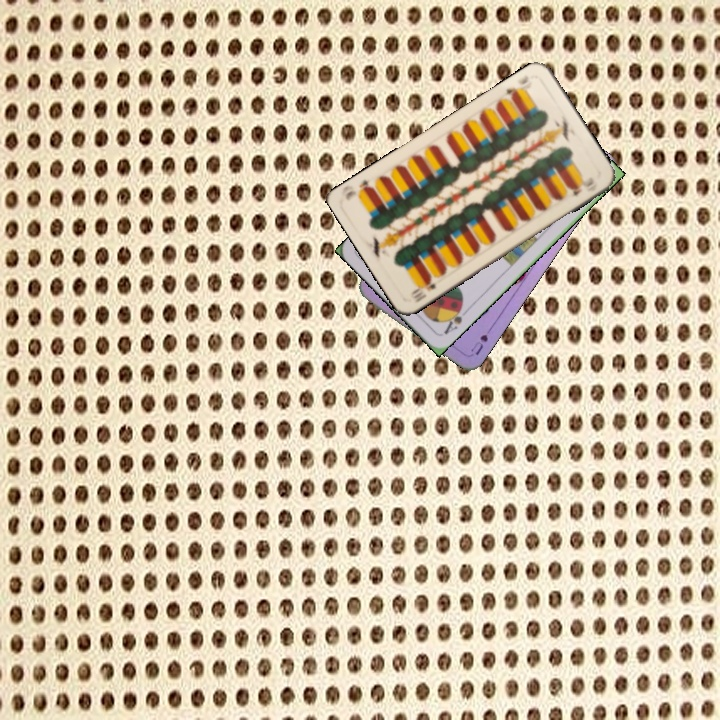E10: (406, 274, 439, 305), (501, 71, 531, 102)
SA: (439, 301, 466, 337)
SU: (466, 321, 496, 358)
